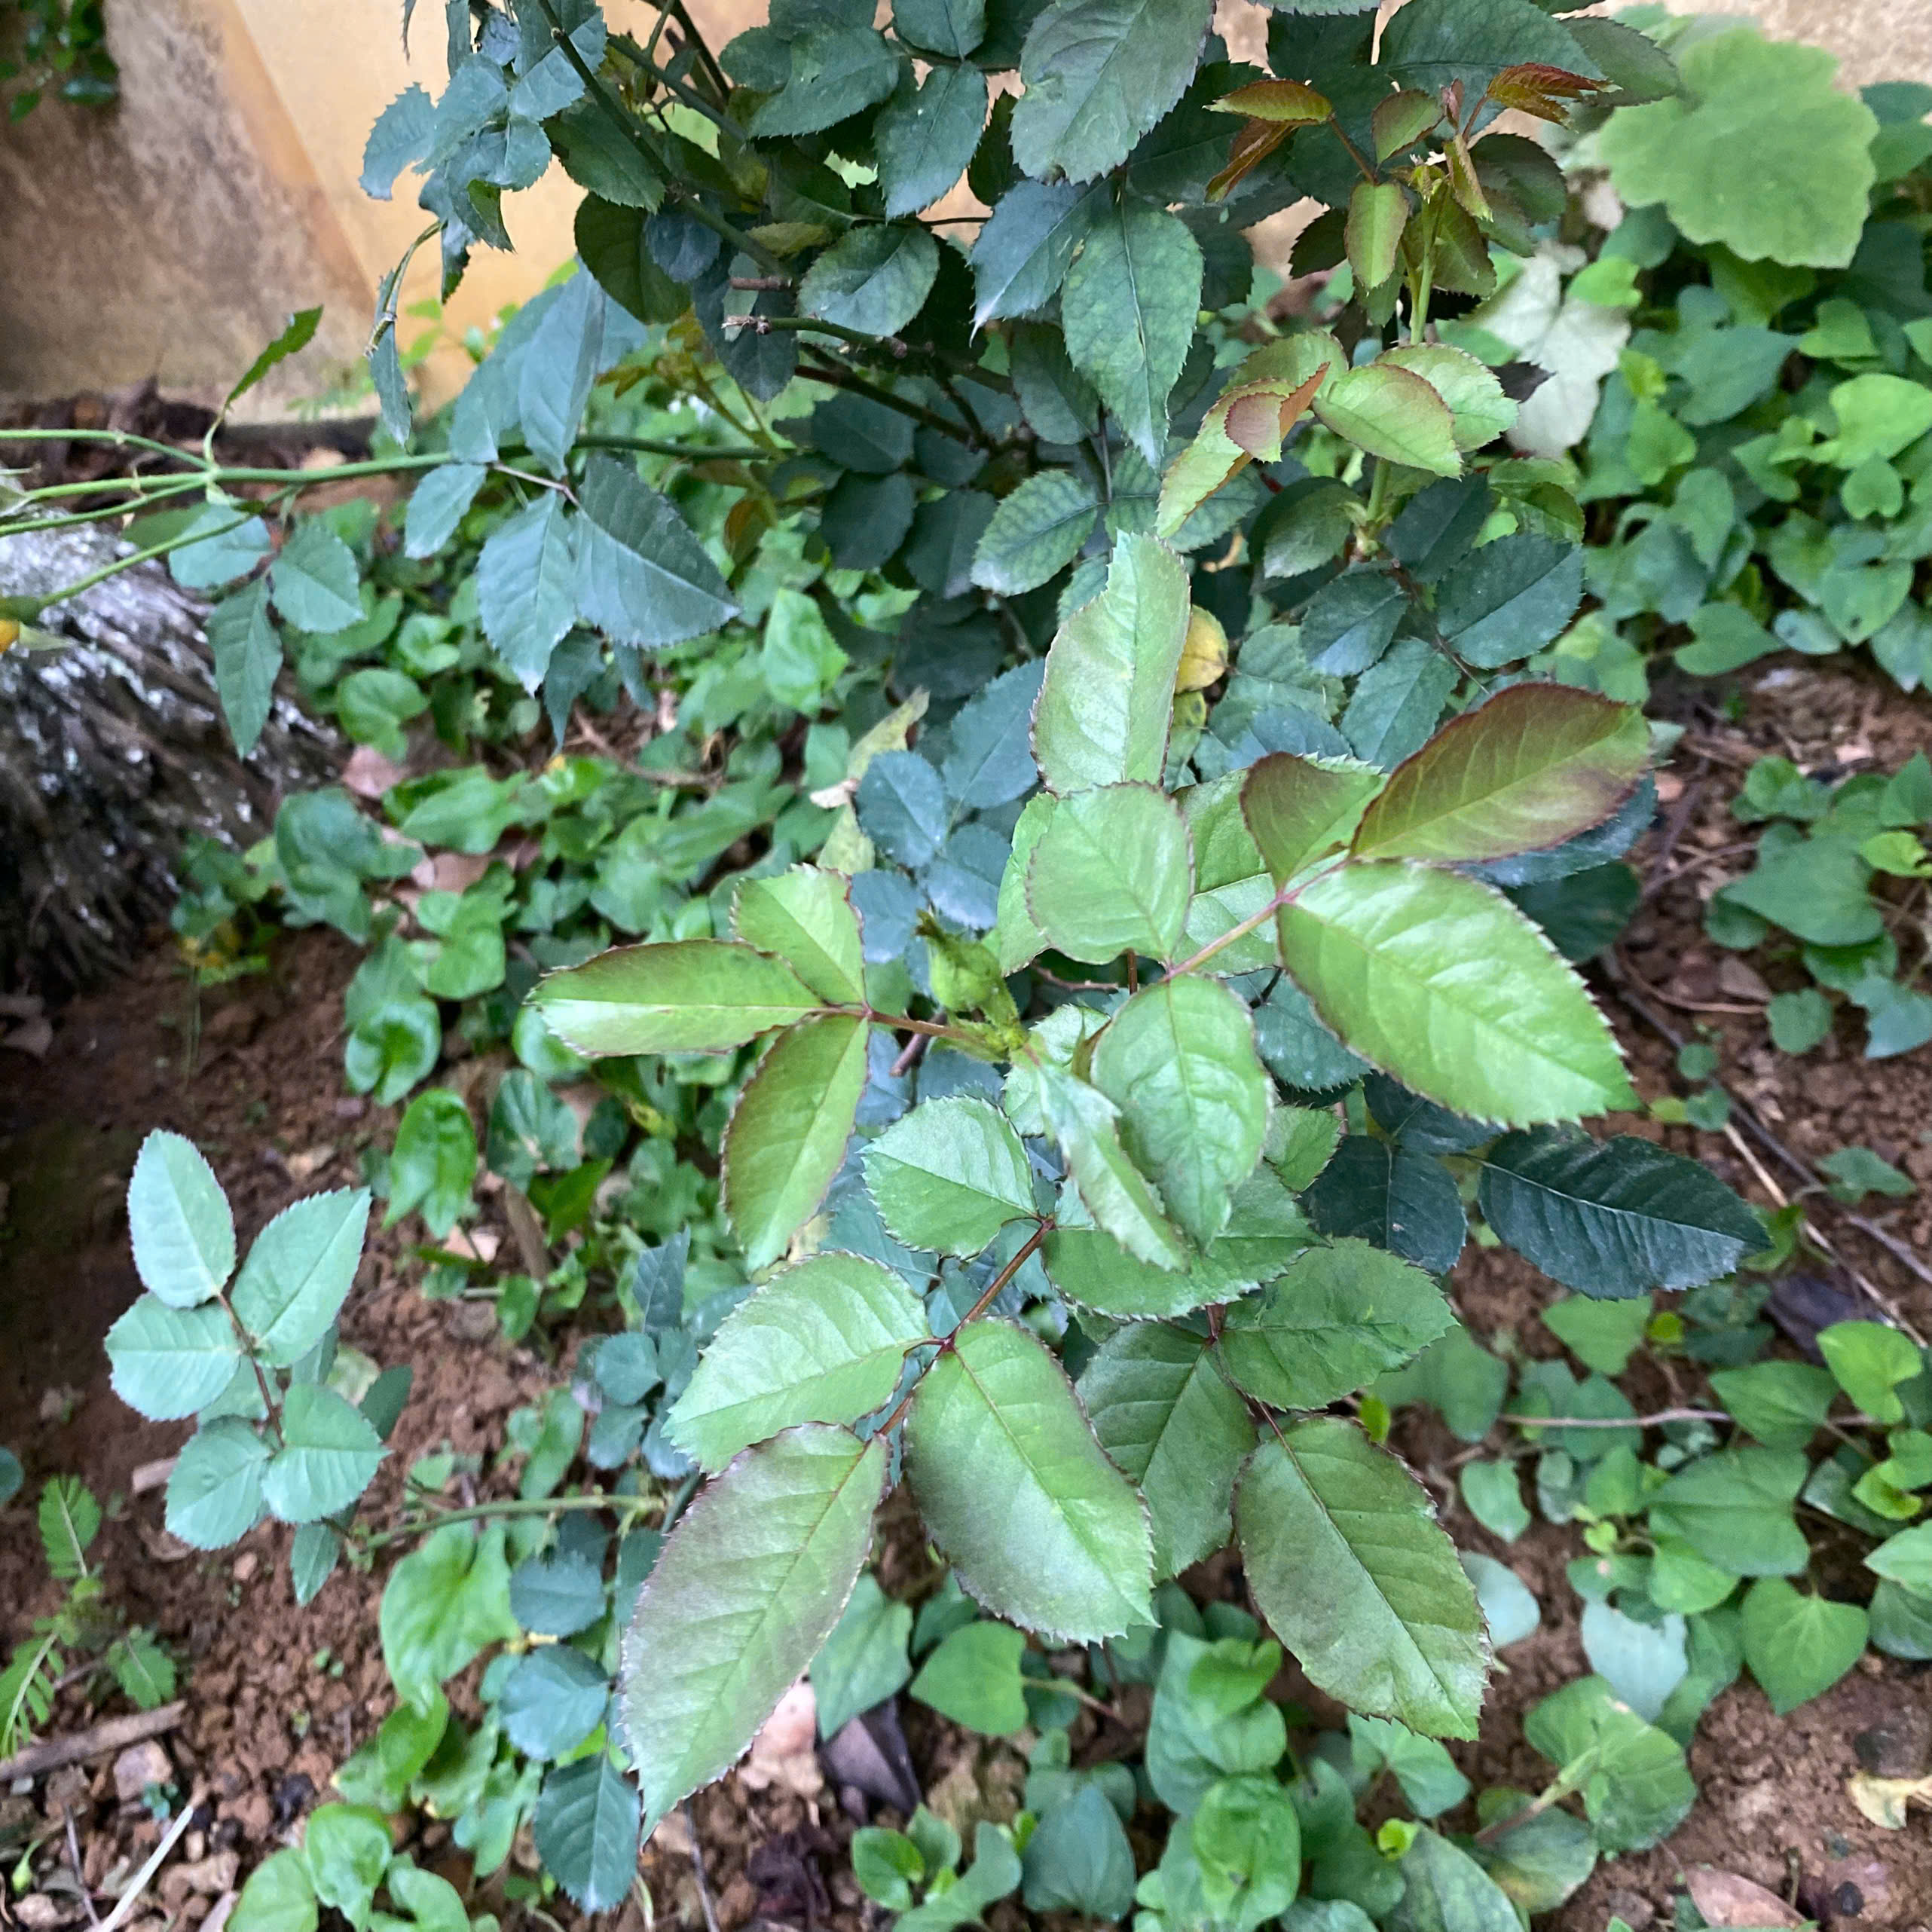hoa_thuoc_duoc: (423, 534, 1799, 1849)
